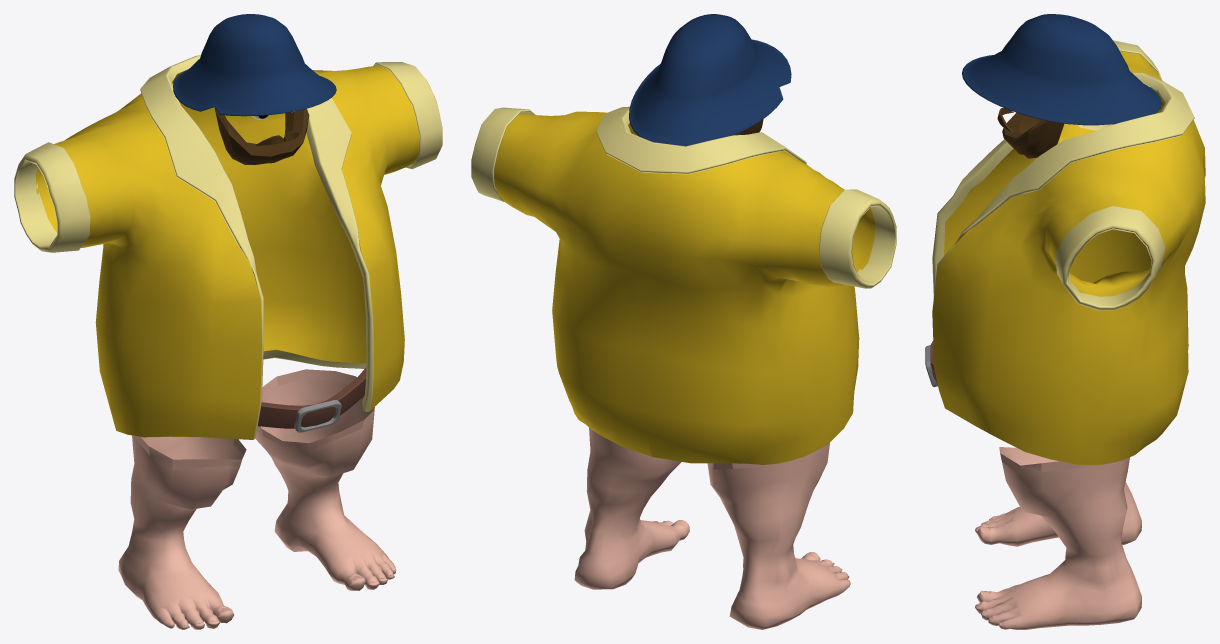
File: fishman-test-tread01(1).fbx
3 renders of one model, left to right at view 1: azimuth 30°, elevation 25°; view 2: azimuth 150°, elevation 25°; view 3: azimuth 270°, elevation 25°, orthographic.
Visible parts, largest first — view 1: coat, leg, hat, belt1, hair; view 2: coat, leg, hat; view 3: coat, leg, hat, hair.
Boxes of the visible parts, bbox=[...] form: coat: bbox=[14, 55, 442, 439]; leg: bbox=[118, 369, 396, 629]; hat: bbox=[173, 14, 336, 116]; belt1: bbox=[257, 367, 366, 432]; hair: bbox=[214, 108, 309, 164]; coat: bbox=[471, 106, 896, 464]; leg: bbox=[574, 428, 850, 629]; hat: bbox=[629, 14, 791, 146]; coat: bbox=[932, 40, 1205, 464]; leg: bbox=[975, 447, 1141, 629]; hat: bbox=[962, 14, 1161, 125]; hair: bbox=[997, 108, 1064, 158].
Size of the model in its own units: 10.03 by 13.87 by 6.34.
